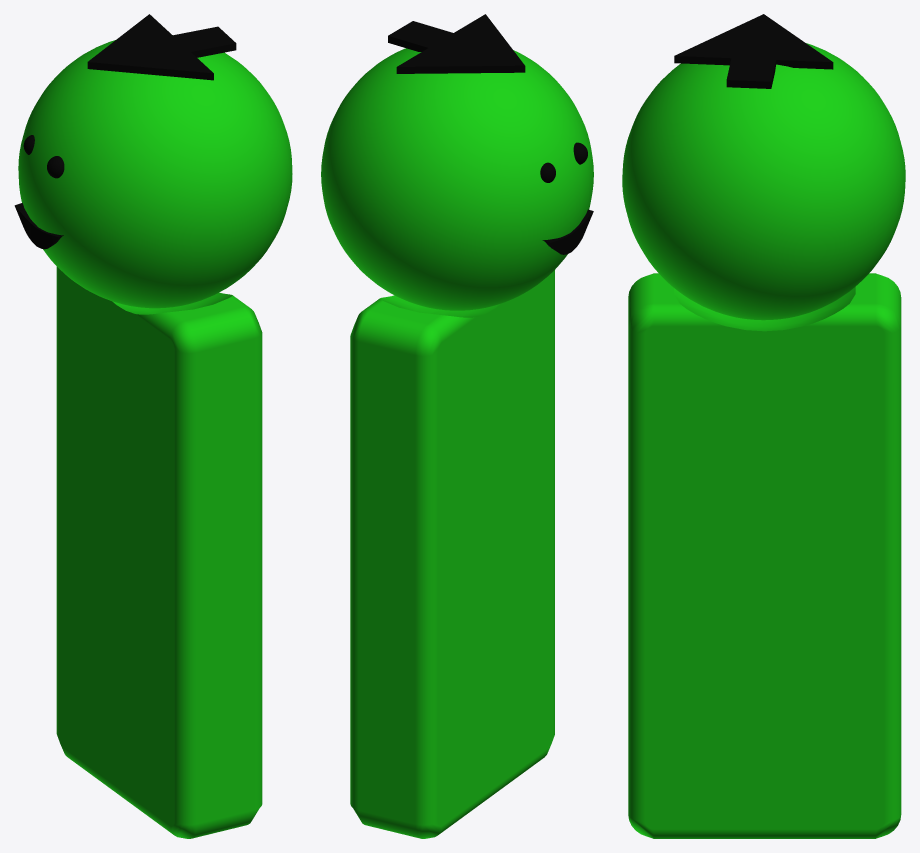
File: green_smile.obj
The picture shows the model from 3 angles, left to right: view 1: azimuth 30°, elevation 25°; view 2: azimuth 150°, elevation 25°; view 3: azimuth 270°, elevation 25°; orthographic projection. The views are drawn at different scales.
Parts seen in each view (by area): view 1: 1_Curve.002_Curve.001, 5.002_Curve.002_Curve.003_5.002_Curve.002_Curve.002; view 2: 1_Curve.002_Curve.001, 5.002_Curve.002_Curve.003_5.002_Curve.002_Curve.002; view 3: 1_Curve.002_Curve.001, 5.002_Curve.002_Curve.003_5.002_Curve.002_Curve.002.
Part boxes in pixels (x1,y1,x2,y2): 1_Curve.002_Curve.001: (18,40,292,838); 5.002_Curve.002_Curve.003_5.002_Curve.002_Curve.002: (14,14,236,249); 1_Curve.002_Curve.001: (321,48,593,838); 5.002_Curve.002_Curve.003_5.002_Curve.002_Curve.002: (388,14,593,254); 1_Curve.002_Curve.001: (622,43,905,838); 5.002_Curve.002_Curve.003_5.002_Curve.002_Curve.002: (674,14,833,88).
Bounding box in the file's own units: 0.1662 × 0.4993 × 0.1661.
